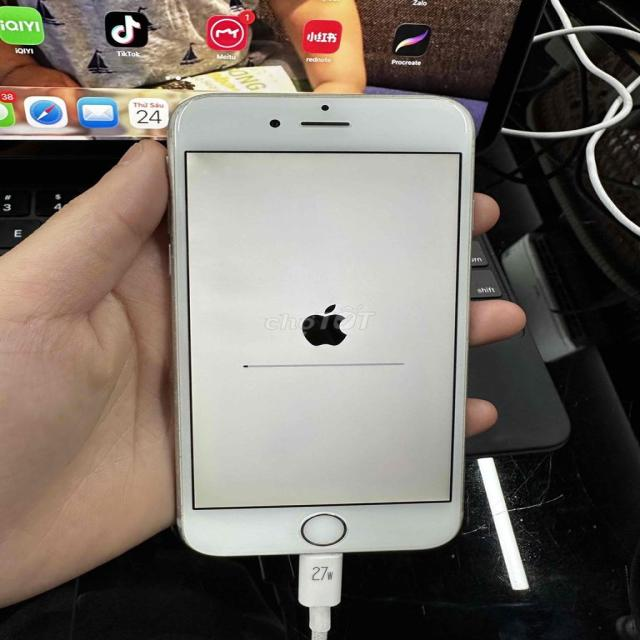gen_6: (168, 93, 474, 591)
